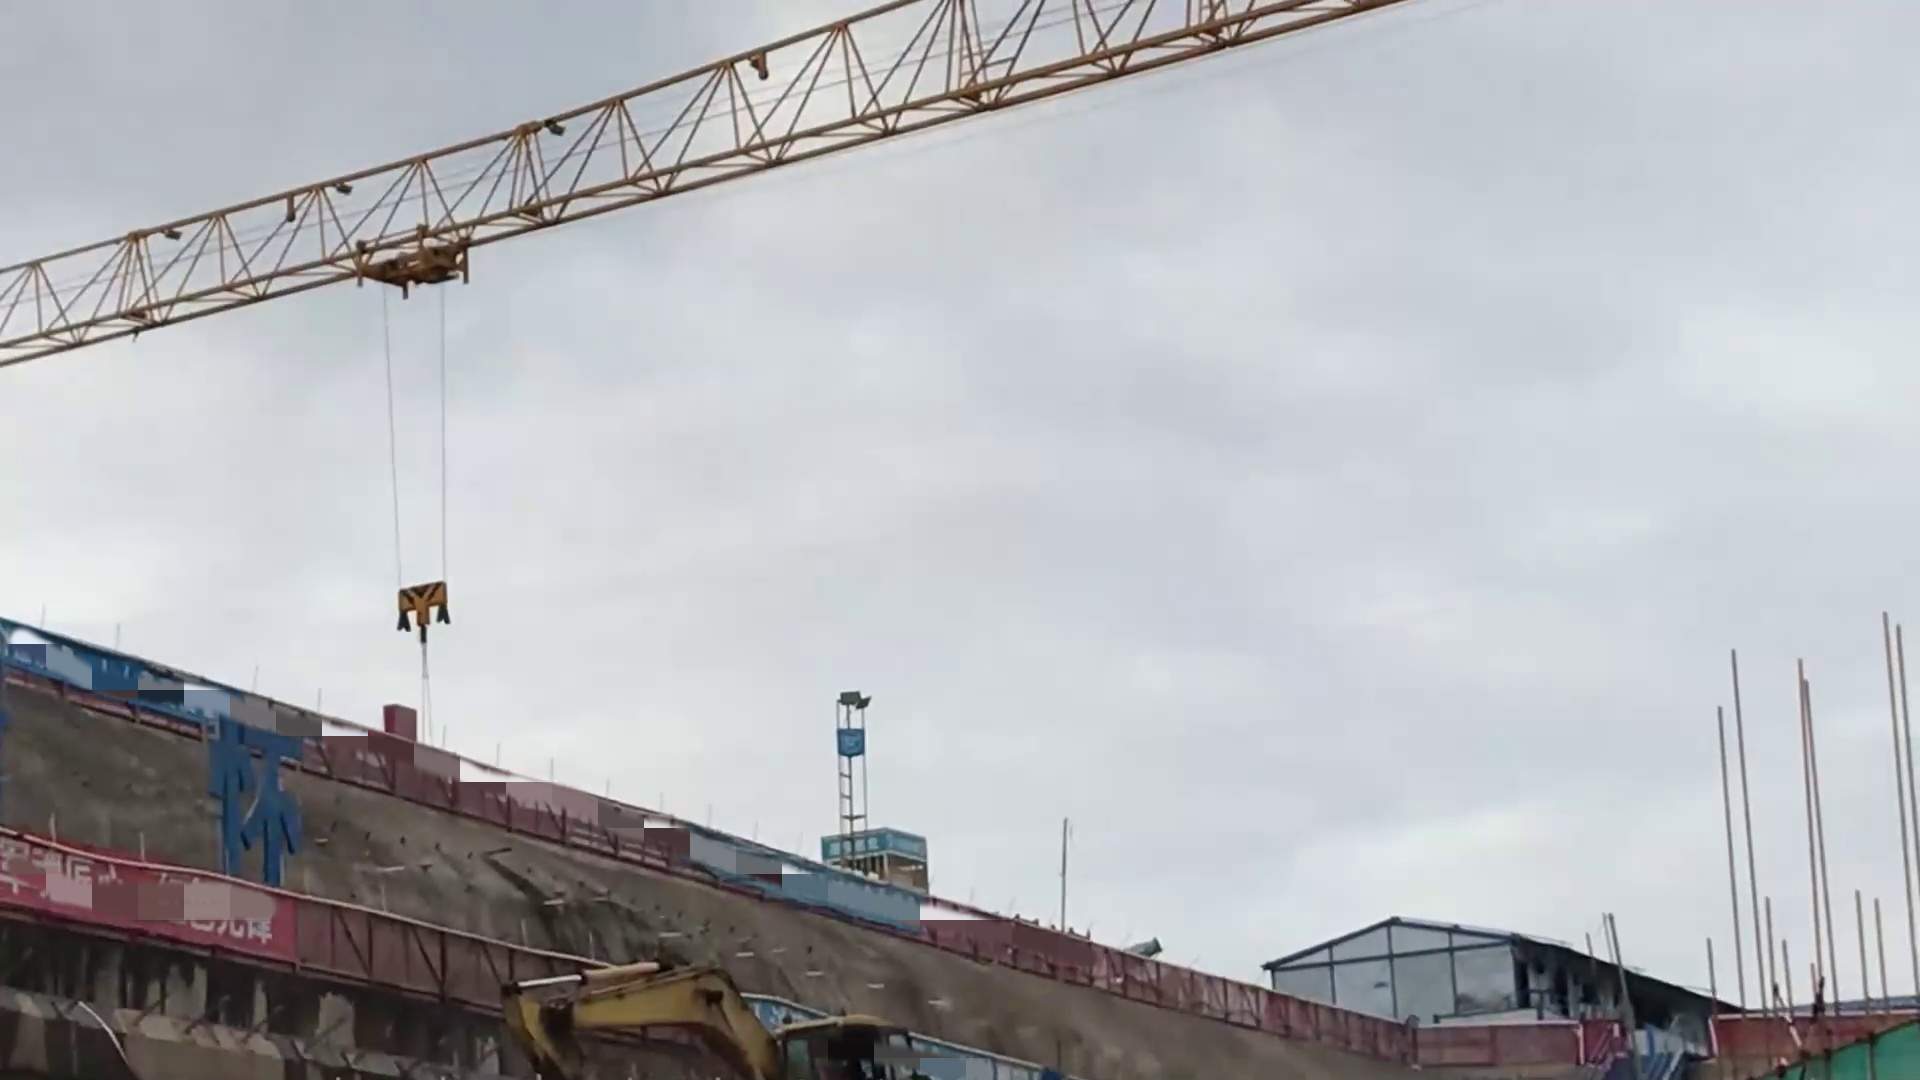hook: (392, 582, 452, 653)
slogan: (7, 820, 295, 957)
